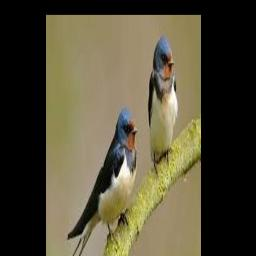Swallow: (54, 109, 138, 256), (148, 37, 178, 166)
